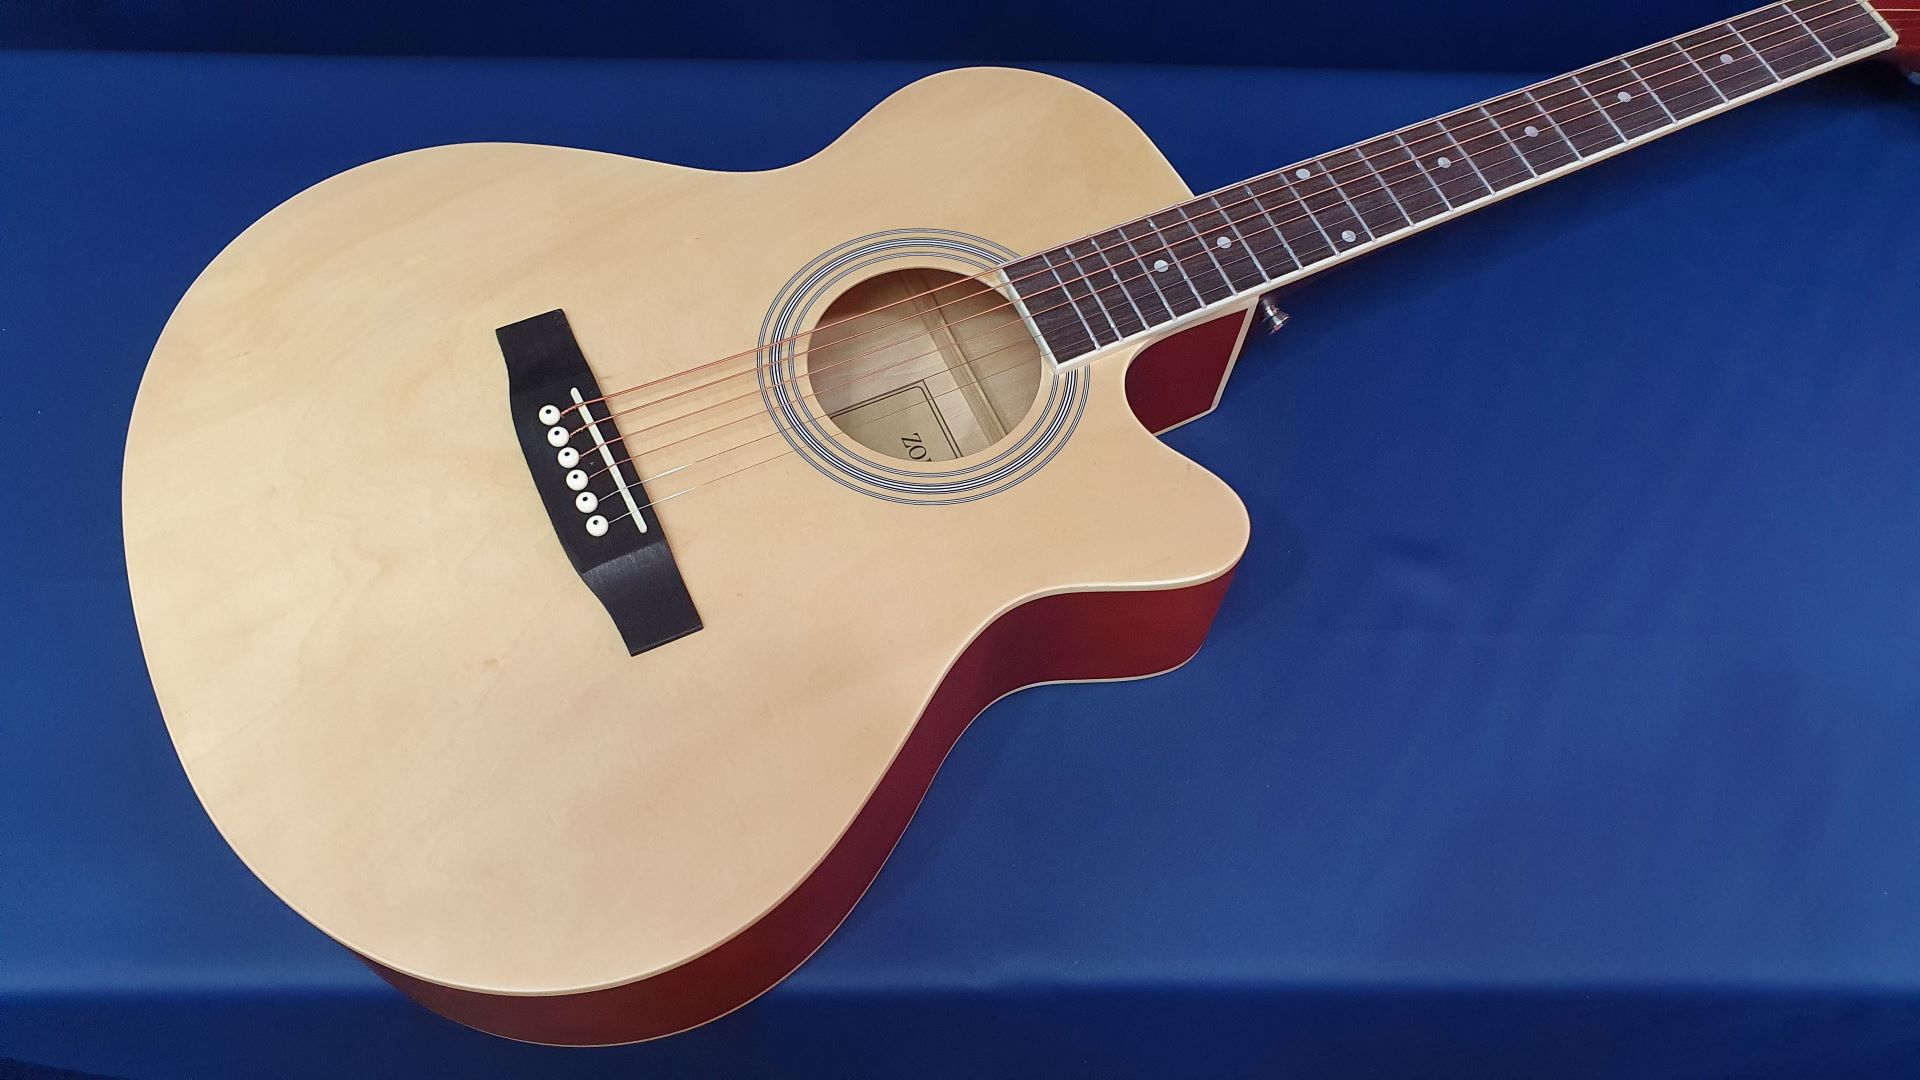guitar: (58, 0, 1919, 1050)
